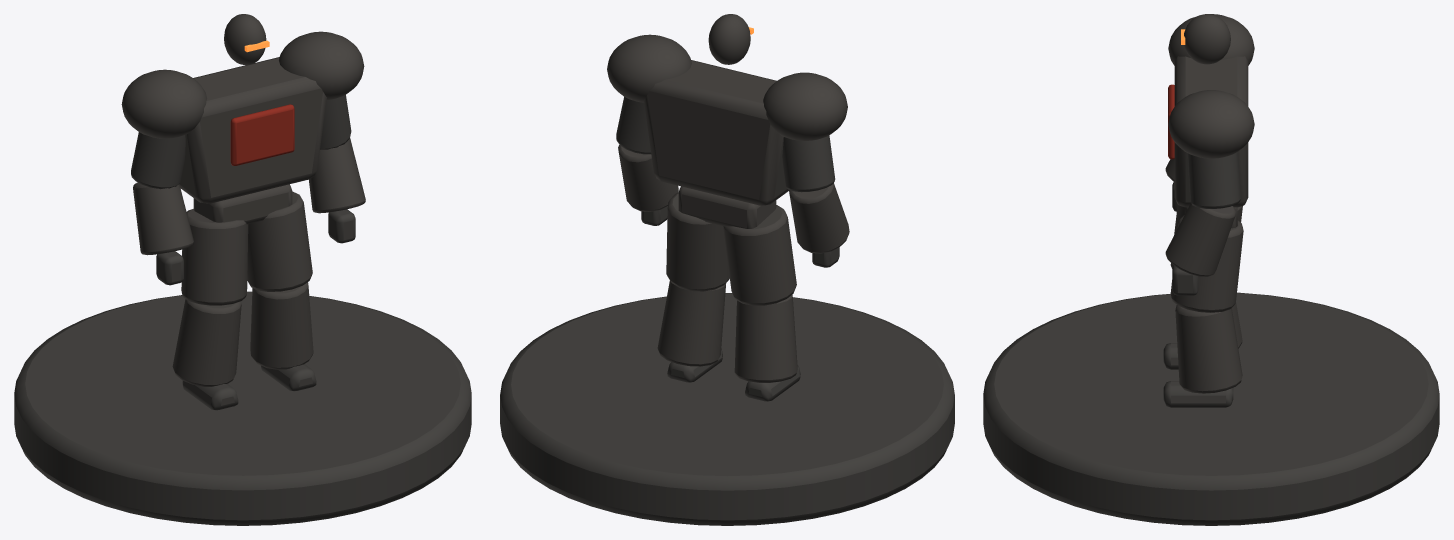
File: foundries_frame_scout.glb
The picture shows the model from 3 angles, left to right: view 1: azimuth 30°, elevation 25°; view 2: azimuth 150°, elevation 25°; view 3: azimuth 270°, elevation 25°; orthographic projection.
Visible parts, largest first — view 1: standin_base.004, t.004, standin_thigh_R.004, standin_shin_R.004, standin_thigh_L.004, standin_shin_L.004, standin_pauldron_R.004, standin_pauldron_L.004, standin_forearm_R.004, tp.004, standin_forearm_L.004, standin_arm_R.004 (+7 smaller); view 2: standin_base.004, t.004, standin_thigh_R.004, standin_shin_R.004, standin_shin_L.004, standin_pauldron_R.004, standin_thigh_L.004, standin_pauldron_L.004, standin_forearm_R.004, standin_arm_R.004, standin_pelvis.004, standin_forearm_L.004 (+4 smaller); view 3: standin_base.004, standin_shin_L.004, standin_pauldron_L.004, t.004, standin_forearm_L.004, standin_thigh_L.004, standin_arm_L.004, h.004, standin_pauldron_R.004, standin_foot_L.004, standin_hand_L.004.
Part boxes in pixels (x1,y1,x2,y2): standin_base.004: (14, 291, 471, 525); t.004: (179, 57, 326, 203); standin_thigh_R.004: (181, 209, 248, 305); standin_shin_R.004: (172, 299, 241, 386); standin_thigh_L.004: (247, 191, 312, 291); standin_shin_L.004: (250, 282, 313, 369); standin_pauldron_R.004: (121, 69, 206, 138); standin_pauldron_L.004: (279, 31, 364, 100); standin_forearm_R.004: (133, 182, 193, 255); tp.004: (230, 104, 294, 165); standin_forearm_L.004: (309, 138, 365, 213); standin_arm_R.004: (131, 132, 185, 189); standin_base.004: (500, 293, 954, 525); t.004: (644, 60, 788, 205); standin_thigh_R.004: (723, 205, 796, 305); standin_shin_R.004: (734, 294, 797, 382); standin_shin_L.004: (657, 281, 726, 366); standin_pauldron_R.004: (763, 72, 847, 140); standin_thigh_L.004: (666, 192, 729, 291); standin_pauldron_L.004: (607, 34, 691, 102); standin_forearm_R.004: (789, 183, 849, 253); standin_arm_R.004: (782, 135, 835, 192); standin_pelvis.004: (678, 186, 776, 228); standin_forearm_L.004: (618, 145, 678, 211); standin_base.004: (983, 292, 1439, 525); standin_shin_L.004: (1175, 305, 1242, 393); standin_pauldron_L.004: (1168, 90, 1254, 158); t.004: (1174, 56, 1248, 207); standin_forearm_L.004: (1165, 203, 1235, 276); standin_thigh_L.004: (1170, 215, 1243, 312); standin_arm_L.004: (1187, 152, 1240, 208); h.004: (1184, 14, 1230, 64); standin_pauldron_R.004: (1168, 14, 1254, 65); standin_foot_L.004: (1163, 381, 1233, 407); standin_hand_L.004: (1172, 265, 1198, 295).
Bounding box in the file's own units: 25 × 25.29 × 25.
